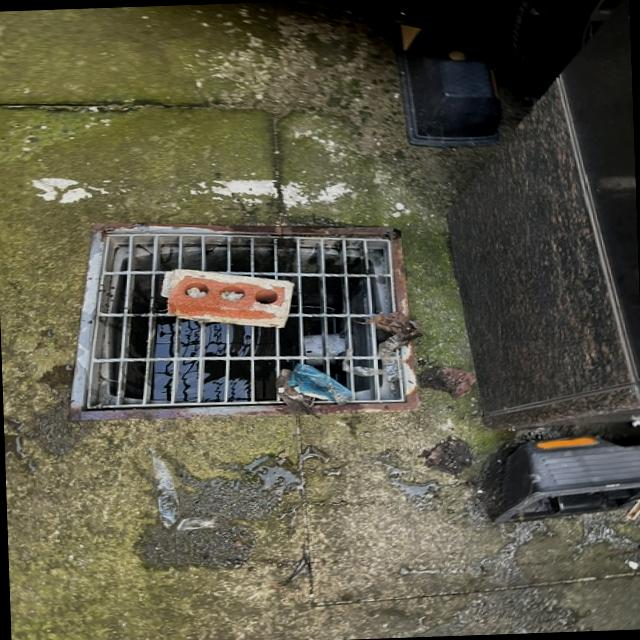drain_area: (84, 235, 402, 410), (159, 267, 294, 330)
drain_full: (82, 233, 404, 411)
